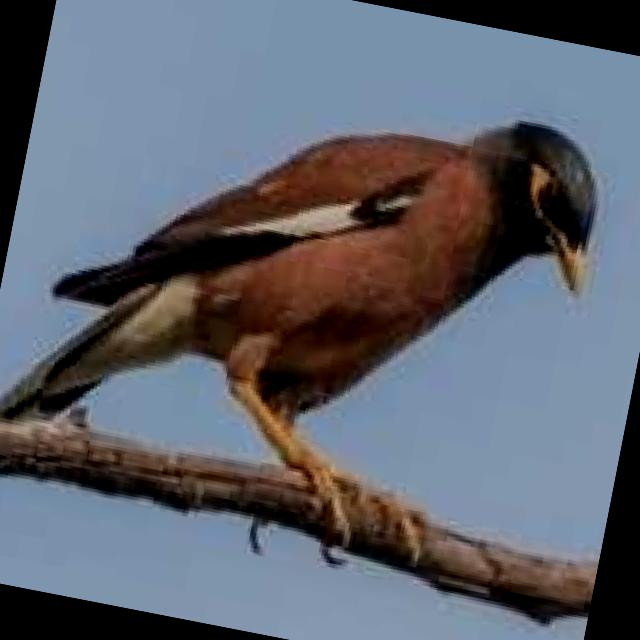bird: (0, 27, 621, 614)
